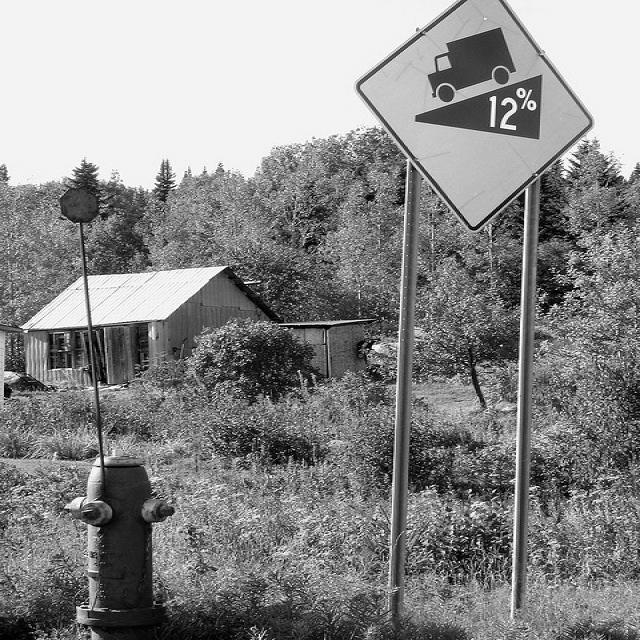fire_hydrant: (66, 447, 178, 633)
pole: (379, 159, 421, 624), (502, 182, 546, 620)
